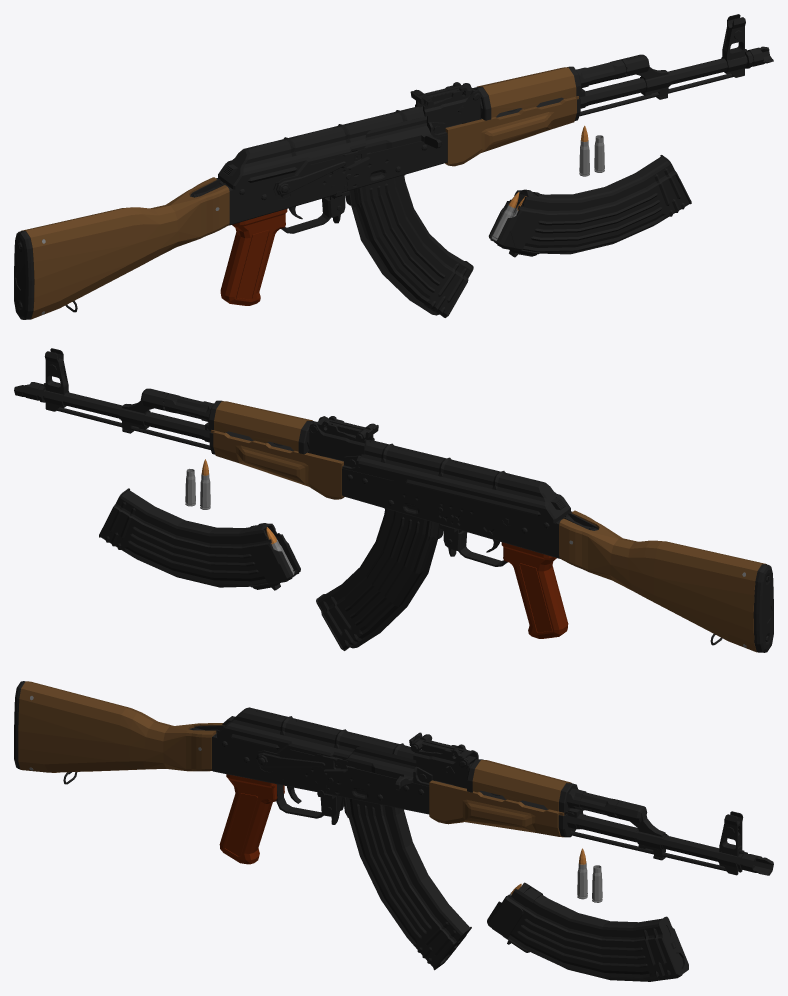
Rendered from akm.glb.
The picture shows the model from 3 angles, top to bottom: view 1: azimuth 30°, elevation 25°; view 2: azimuth 150°, elevation 25°; view 3: azimuth 330°, elevation 25°; orthographic projection.
Parts seen in each view (by area): view 1: akm stock_1, ak 30rnd steel mag_15, akm receiver_3, ak 30rnd empty steel mag_14, akm handguard_7, akm dust cover_8, akm barrel_10, akm grip_4, akm bolt_9, akm selector_2; view 2: akm stock_1, akm receiver_3, ak 30rnd steel mag_15, ak 30rnd empty steel mag_14, akm dust cover_8, akm handguard_7, akm barrel_10, akm grip_4; view 3: akm stock_1, ak 30rnd steel mag_15, akm receiver_3, ak 30rnd empty steel mag_14, akm handguard_7, akm barrel_10, akm dust cover_8, akm grip_4, akm bolt_9, akm selector_2, akm compensator_5.
Boxes of the visible parts, left/top/right/bottom form: akm stock_1: left=14, top=177, right=229, bottom=319; ak 30rnd steel mag_15: left=488, top=155, right=691, bottom=257; akm receiver_3: left=190, top=60, right=625, bottom=233; ak 30rnd empty steel mag_14: left=345, top=175, right=473, bottom=317; akm handguard_7: left=445, top=67, right=578, bottom=166; akm dust cover_8: left=218, top=106, right=424, bottom=189; akm barrel_10: left=445, top=14, right=747, bottom=127; akm grip_4: left=220, top=209, right=287, bottom=305; akm bolt_9: left=351, top=67, right=626, bottom=153; akm selector_2: left=273, top=148, right=369, bottom=197; akm stock_1: left=559, top=510, right=773, bottom=652; akm receiver_3: left=164, top=394, right=598, bottom=566; ak 30rnd steel mag_15: left=99, top=488, right=300, bottom=590; ak 30rnd empty steel mag_14: left=316, top=508, right=443, bottom=650; akm dust cover_8: left=358, top=440, right=570, bottom=522; akm handguard_7: left=211, top=401, right=344, bottom=499; akm barrel_10: left=43, top=348, right=343, bottom=461; akm grip_4: left=501, top=542, right=568, bottom=638; akm stock_1: left=14, top=681, right=224, bottom=784; ak 30rnd steel mag_15: left=487, top=882, right=688, bottom=981; akm receiver_3: left=189, top=716, right=621, bottom=818; ak 30rnd empty steel mag_14: left=343, top=797, right=471, bottom=970; akm handguard_7: left=429, top=760, right=571, bottom=837; akm barrel_10: left=435, top=780, right=756, bottom=875; akm dust cover_8: left=217, top=707, right=423, bottom=759; akm grip_4: left=219, top=774, right=284, bottom=864; akm bolt_9: left=335, top=746, right=616, bottom=810; akm selector_2: left=255, top=747, right=347, bottom=772; akm compensator_5: left=737, top=852, right=773, bottom=875.
Bounding box in the file's own units: 8.94 × 2.56 × 0.6313.
